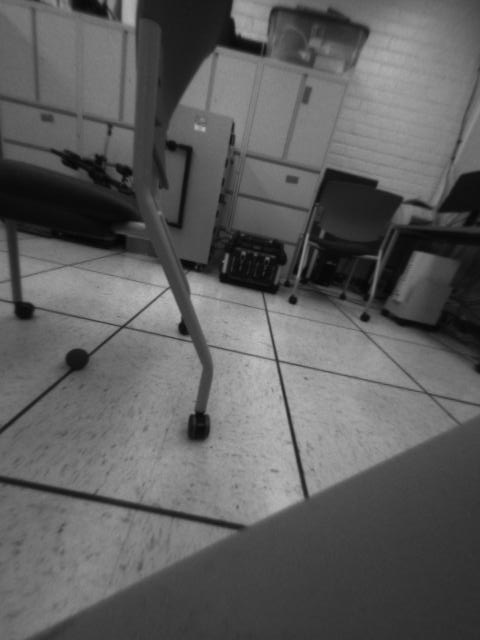dogtoy: (58, 345, 95, 375)
